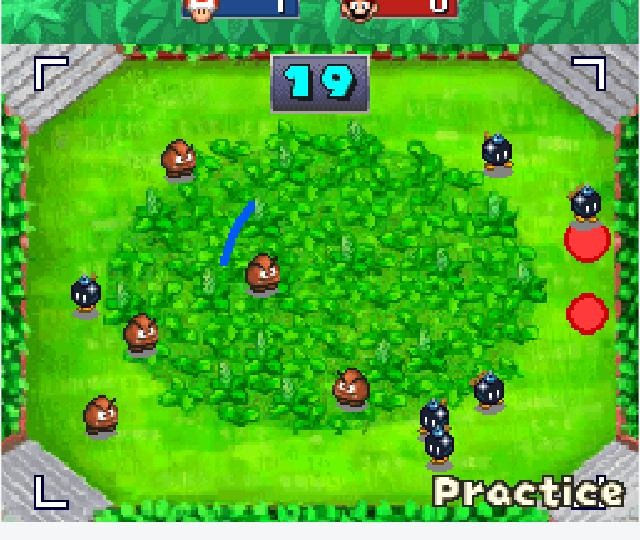bomb: (62, 268, 109, 318), (562, 180, 606, 229), (478, 128, 518, 181), (419, 424, 459, 475), (468, 366, 509, 415), (414, 394, 453, 438)
goomba: (326, 362, 376, 415), (76, 392, 124, 444), (117, 310, 162, 362), (240, 250, 285, 298), (155, 135, 200, 180)
